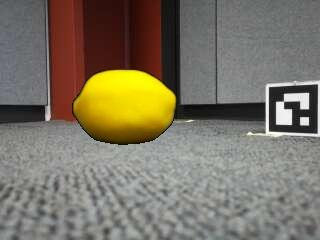lemon: (75, 69, 177, 143)
